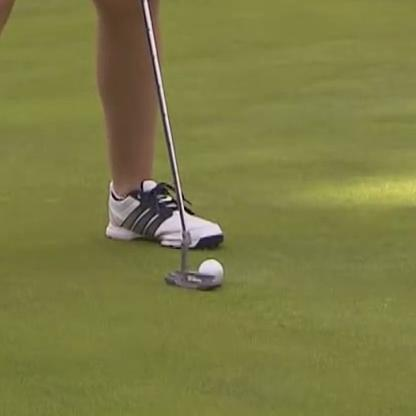golfball: (195, 256, 220, 284)
